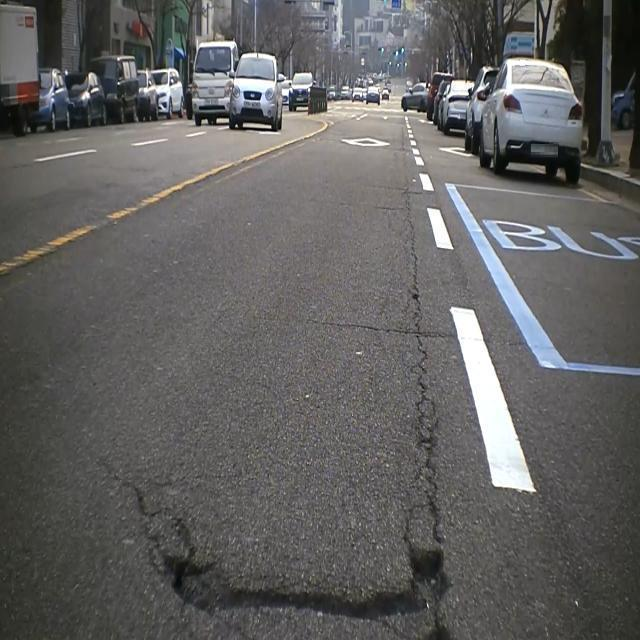Pothole: (150, 540, 459, 624)
